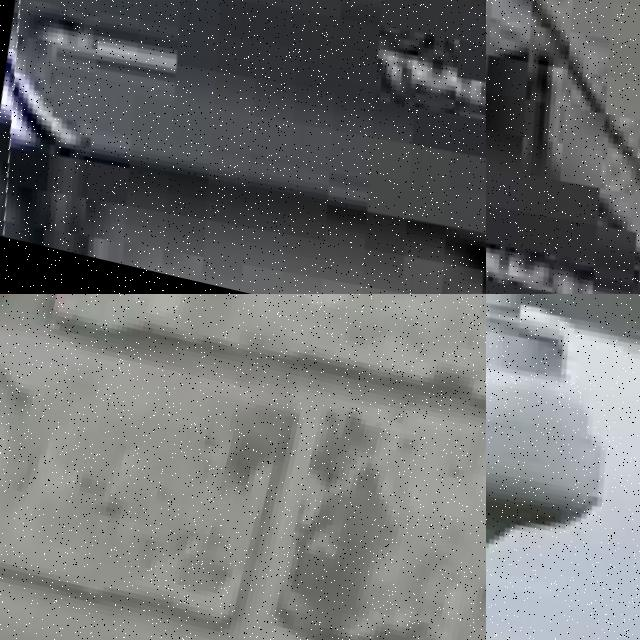drone: (0, 0, 486, 294), (486, 294, 640, 640), (486, 0, 640, 294)
